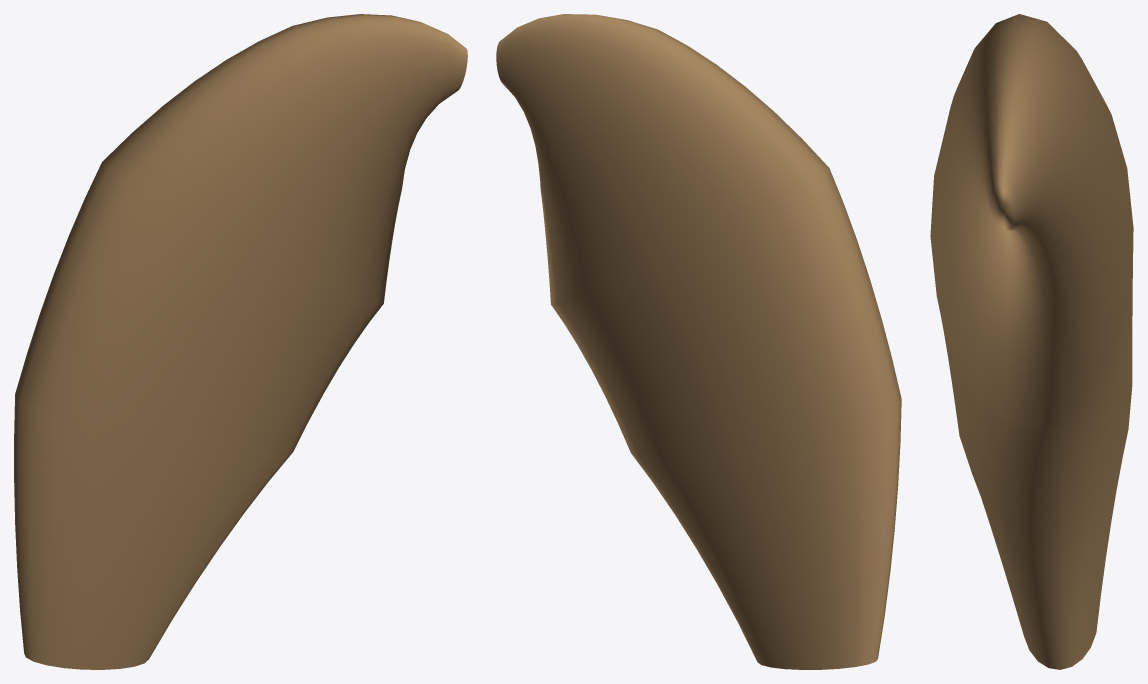
File: dog_ear_l.glb
The picture shows the model from 3 angles, left to right: view 1: azimuth 30°, elevation 25°; view 2: azimuth 150°, elevation 25°; view 3: azimuth 270°, elevation 25°; orthographic projection. The views are drawn at different scales.
Bounding box in the file's own units: 0.0416 × 0.0564 × 0.0144.
